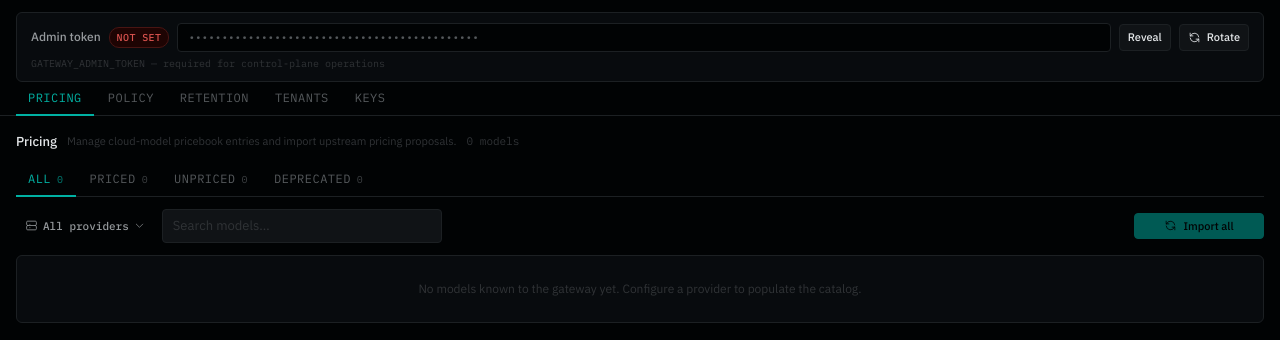
AdminView tabs › switches to tenants tab on click (multi-tenant)
Click the button "Tenants". click: x=302, y=98
box: [263,82,341,116]
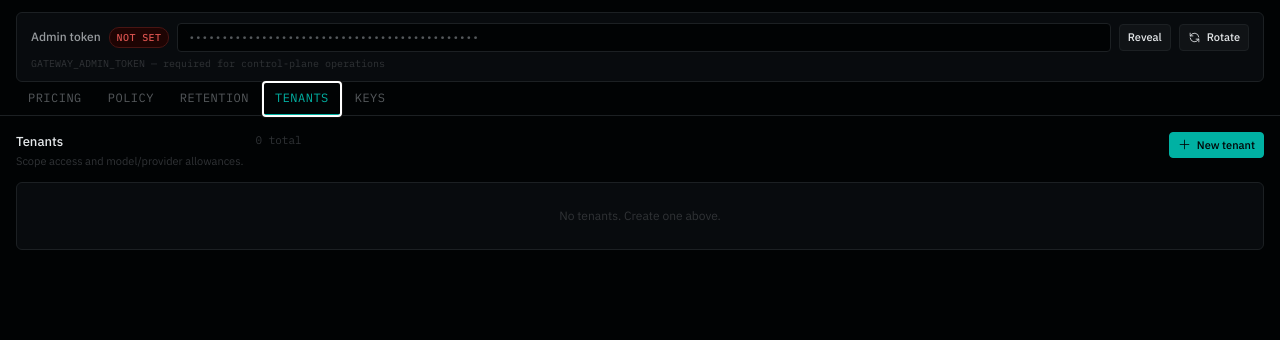
Result: the button "New tenant" is shown at [1169,132,1264,158]
